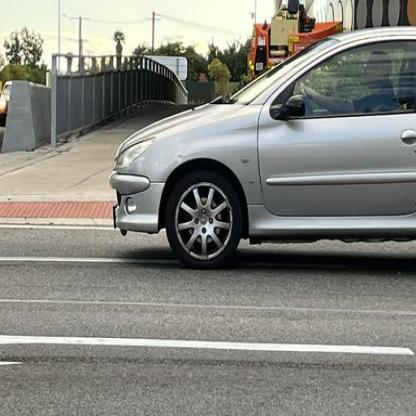Tire: (165, 168, 243, 270)
